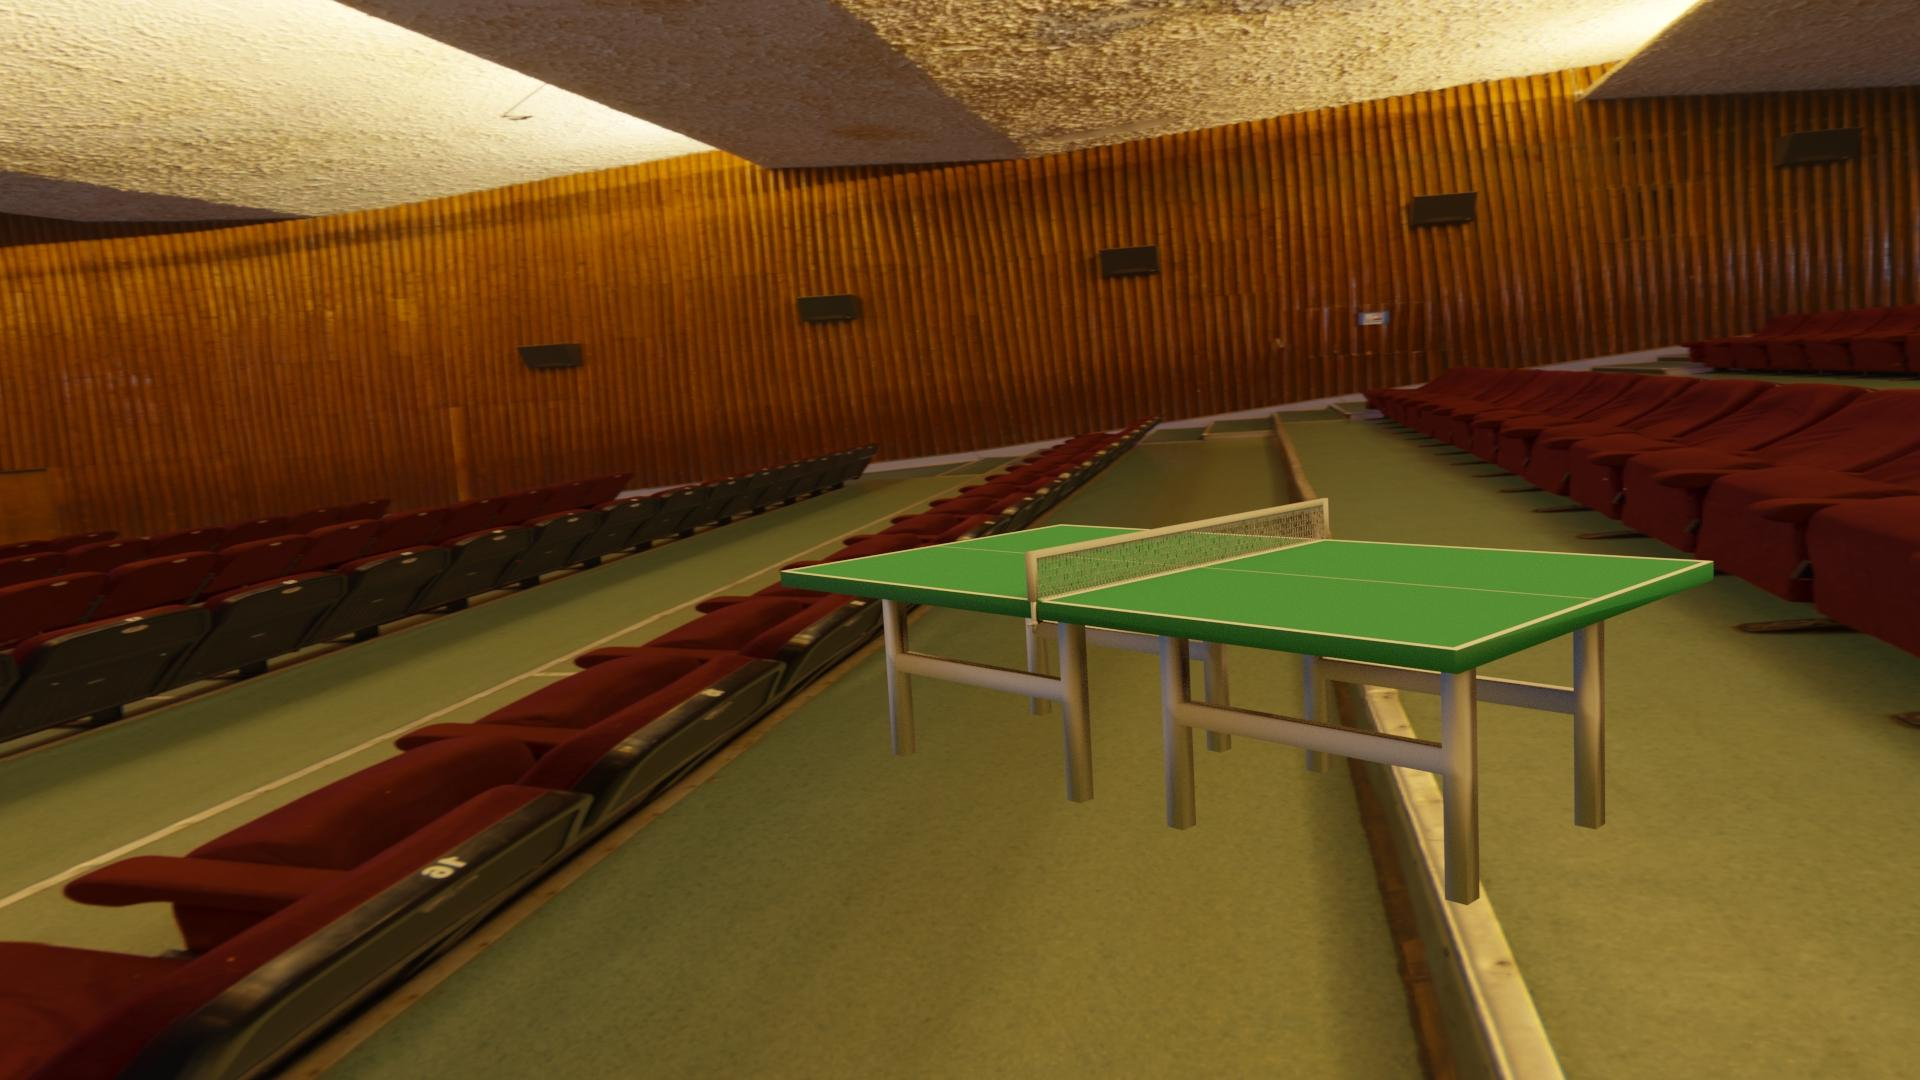table: (787, 525, 1704, 647)
